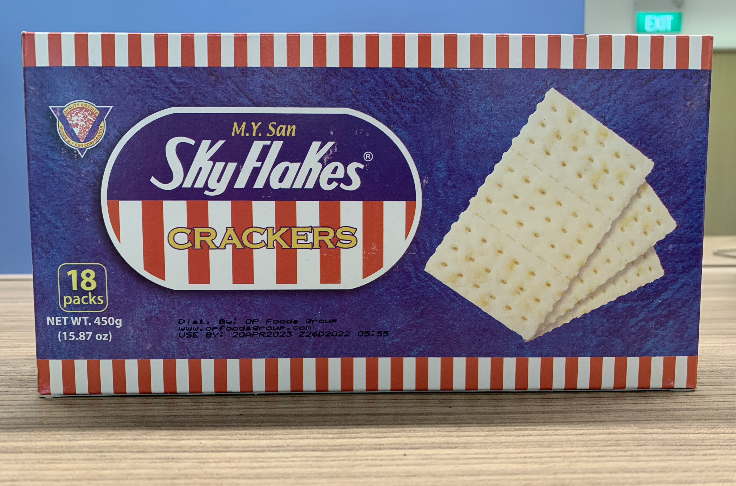crackers_450g: (41, 77, 693, 346)
